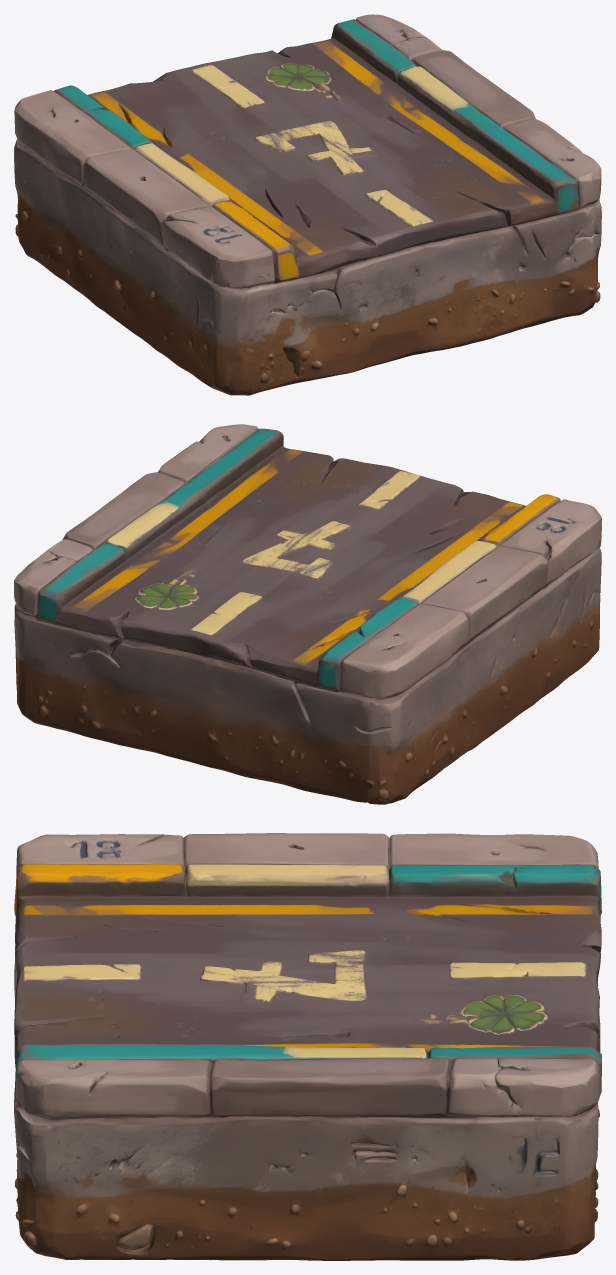
The model's file is road.glb.
3 views of the same model, one above another, from view 1: azimuth 30°, elevation 25°; view 2: azimuth 150°, elevation 25°; view 3: azimuth 270°, elevation 25° (orthographic). The views are drawn at different scales.
Visible parts, largest first — view 1: tripo_node_f6aa9416-da6d-44d4-b9a7-06d97994f76e; view 2: tripo_node_f6aa9416-da6d-44d4-b9a7-06d97994f76e; view 3: tripo_node_f6aa9416-da6d-44d4-b9a7-06d97994f76e.
Boxes of the visible parts, x1,y1,x2,y2 form: tripo_node_f6aa9416-da6d-44d4-b9a7-06d97994f76e: (14, 14, 601, 395); tripo_node_f6aa9416-da6d-44d4-b9a7-06d97994f76e: (14, 424, 601, 804); tripo_node_f6aa9416-da6d-44d4-b9a7-06d97994f76e: (14, 833, 601, 1260).
Bounding box in the file's own units: 0.9803 × 0.3476 × 0.9789.
1 material, 1 textured.
